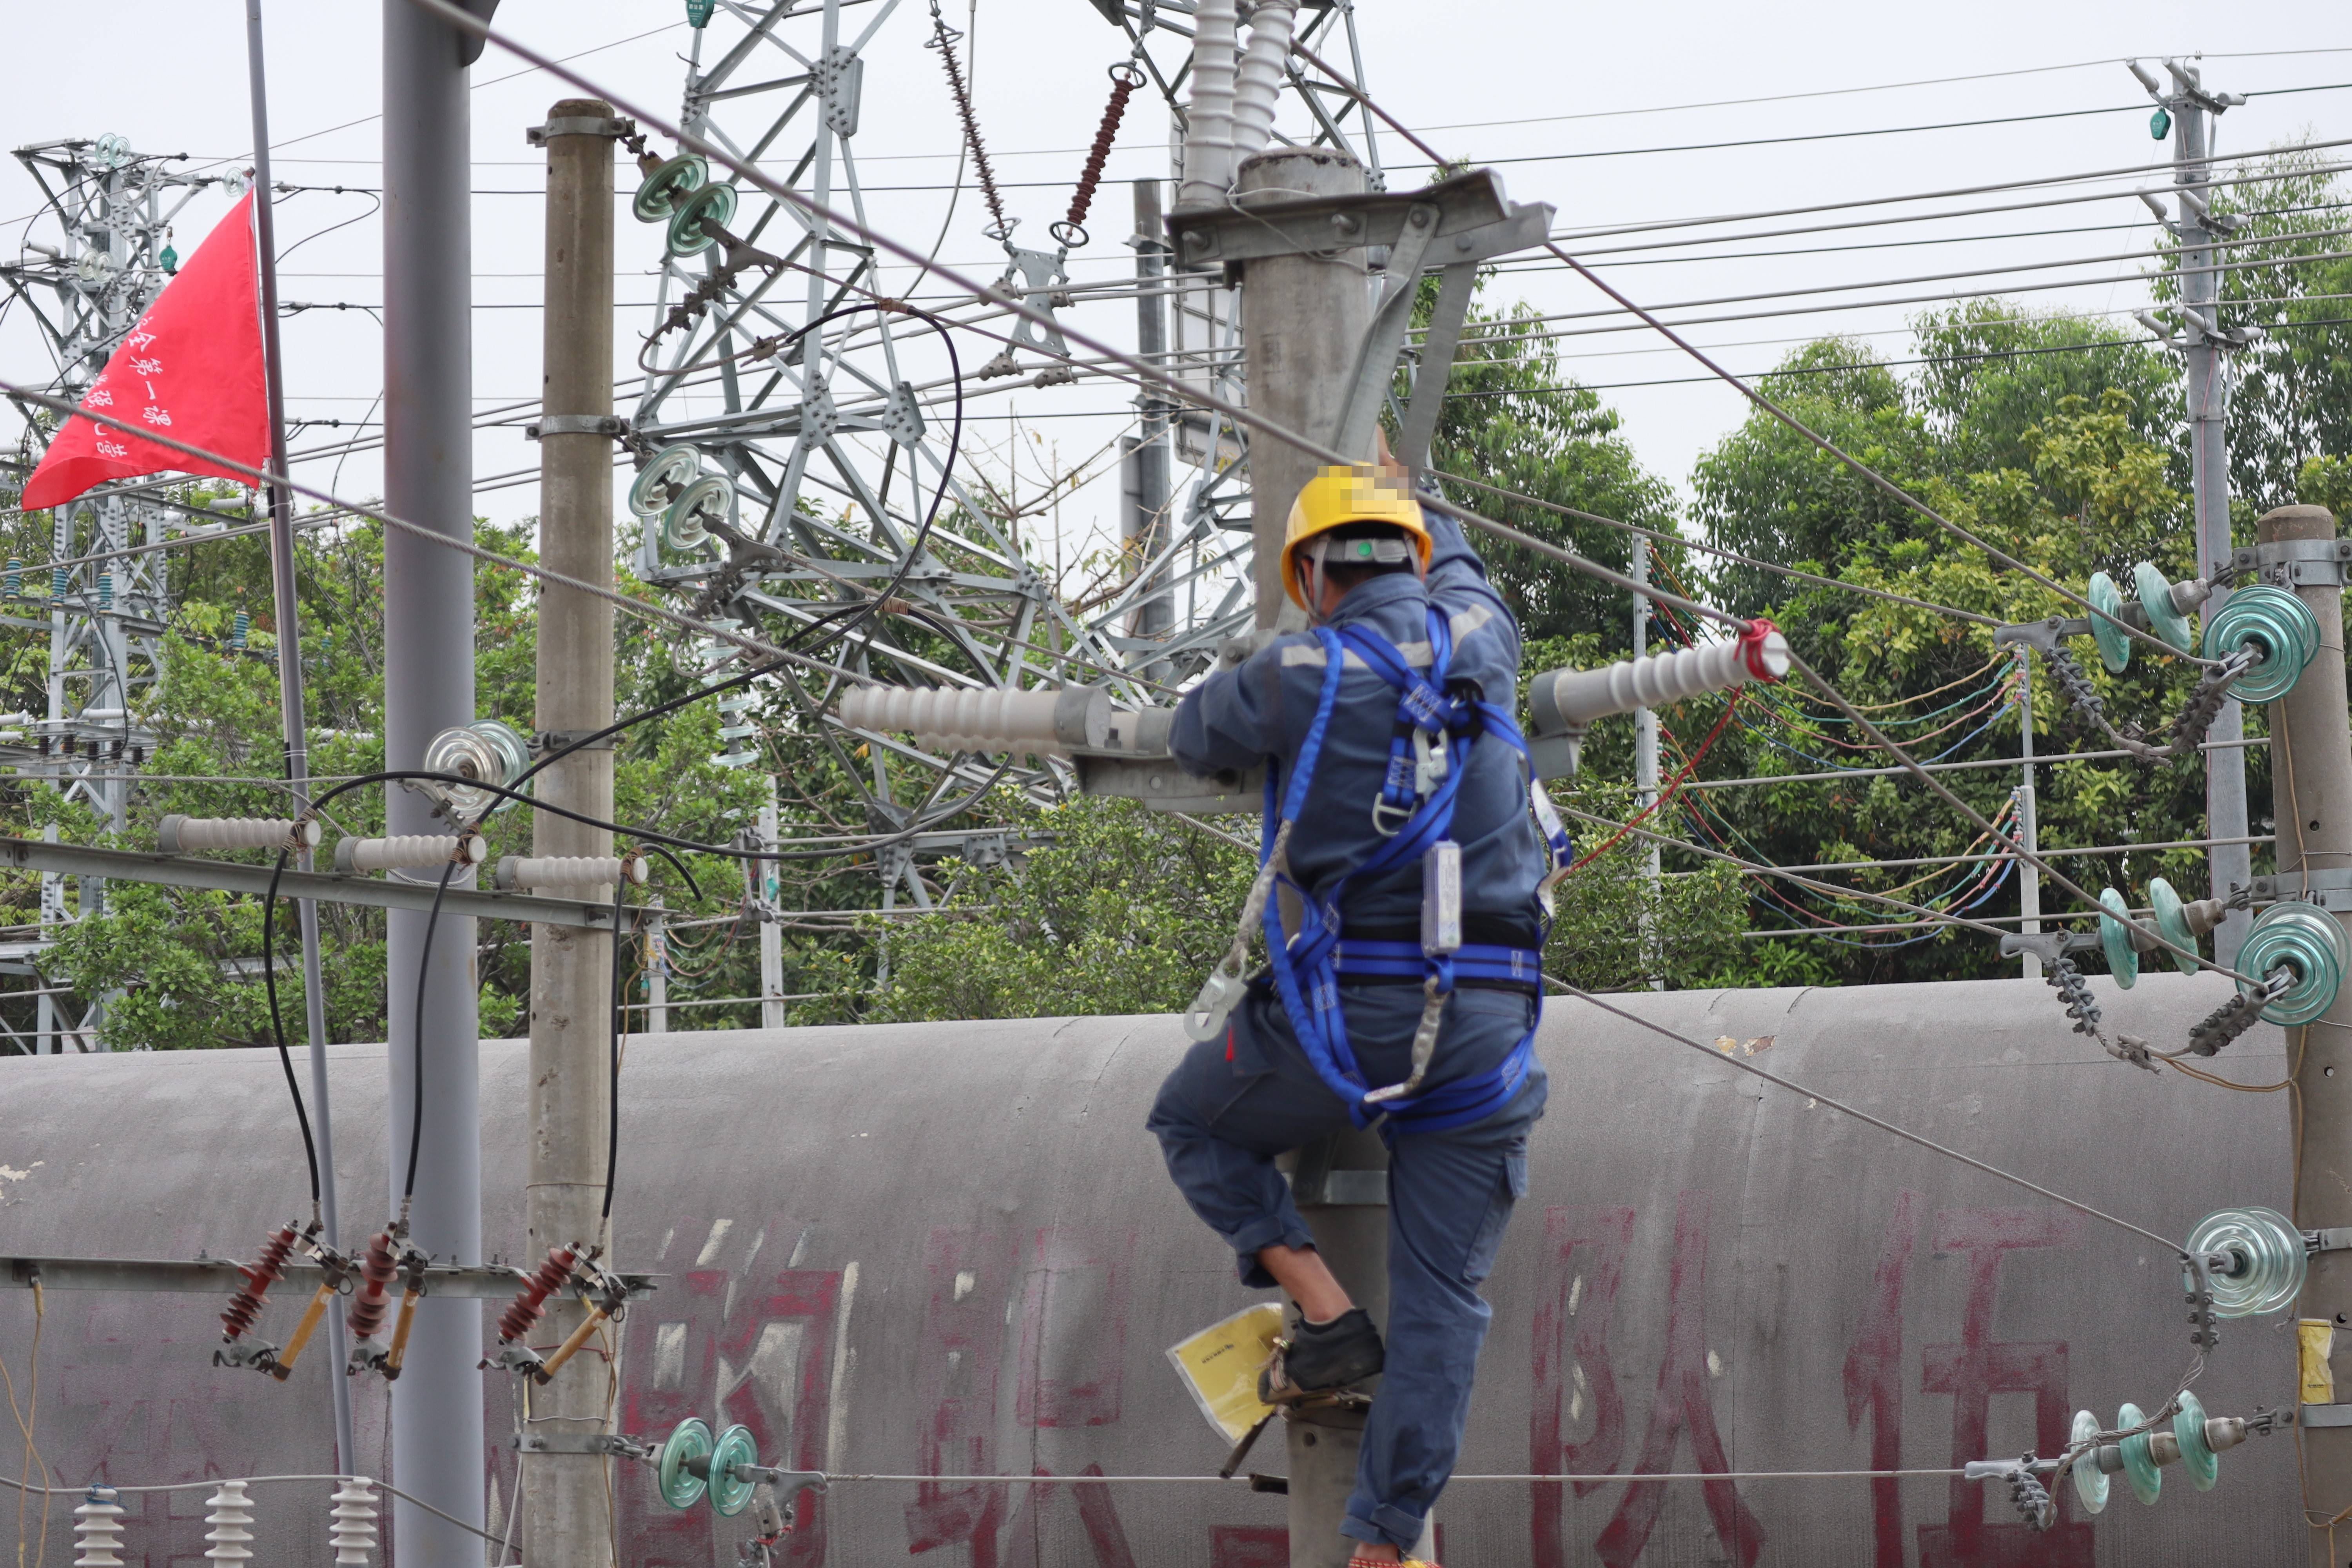downsuit: (1159, 990, 1502, 1533)
upsuit: (1178, 600, 1545, 971)
wrongbottom: (1243, 1204, 1346, 1328)
